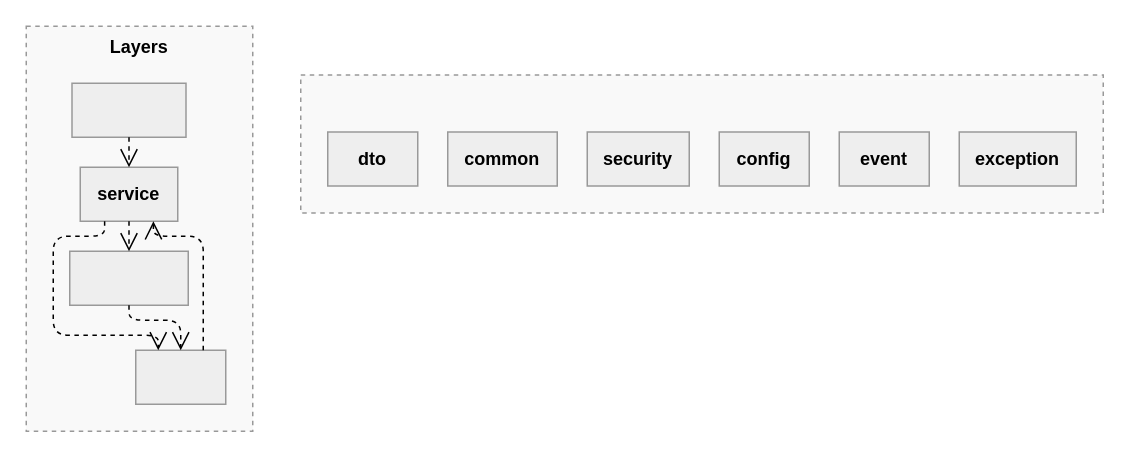
Image size: 1130x458. Some labels were removed from this diagram. The box of each missing label's shape, as (x1, y1, x2, y2) in pixels:
controller: (70, 82, 186, 137)
entity: (134, 349, 226, 404)
repository: (68, 250, 188, 305)
Shared (used by every layer): (299, 74, 1103, 213)
